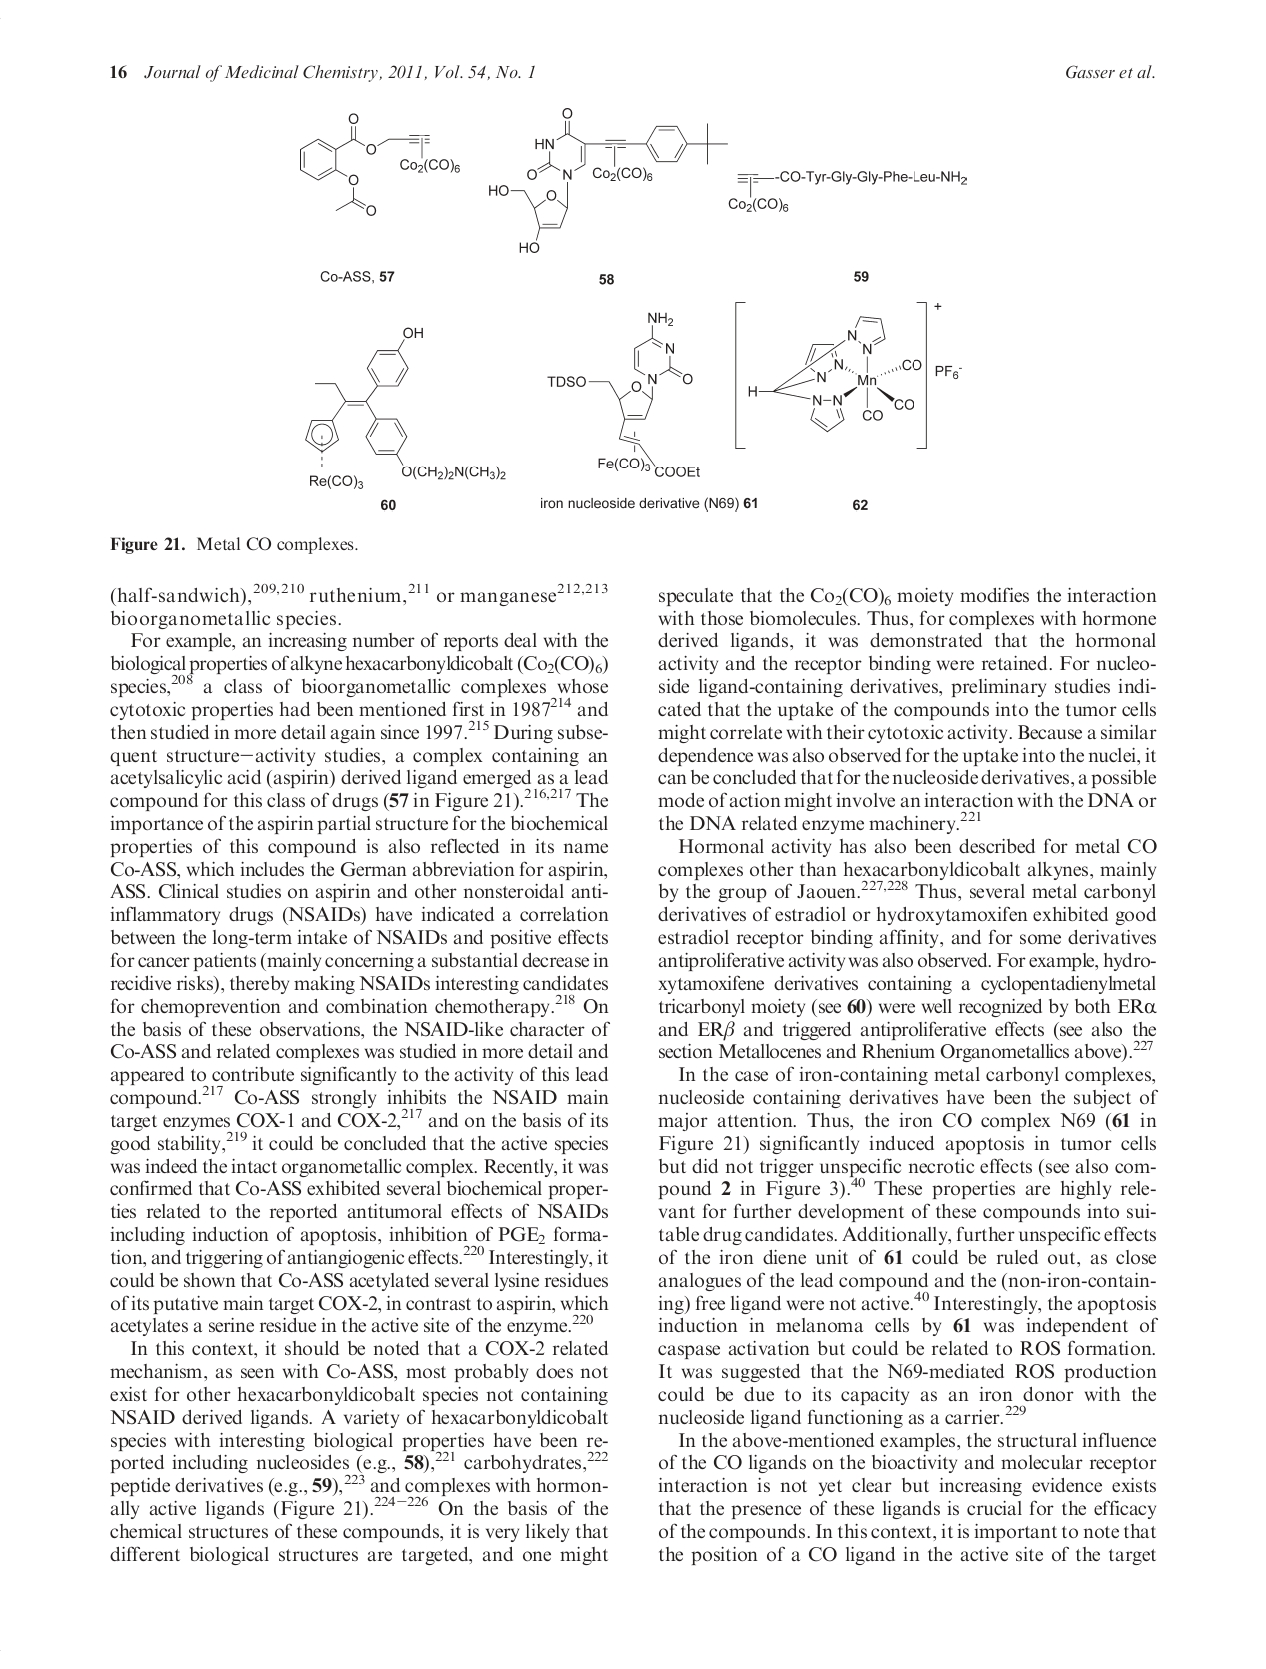exist_molecular: (302, 322, 517, 495), (485, 105, 727, 253), (547, 310, 706, 481), (746, 314, 924, 438), (297, 110, 461, 218), (727, 168, 972, 217)
